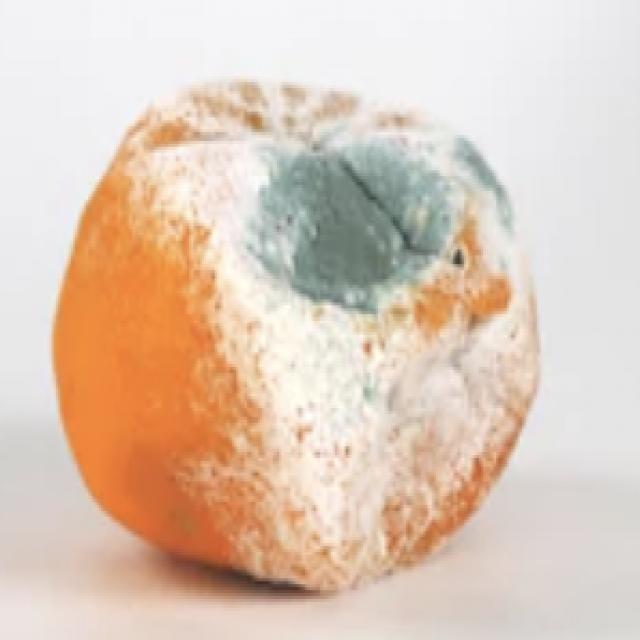rotten-orange: (45, 81, 536, 580)
